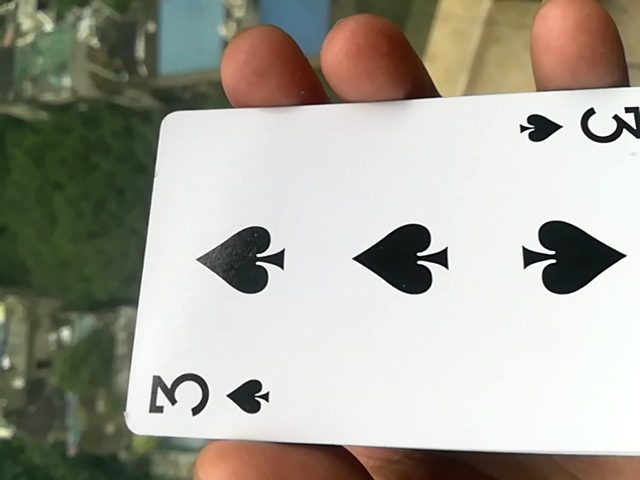ht 3: (110, 103, 636, 473)
